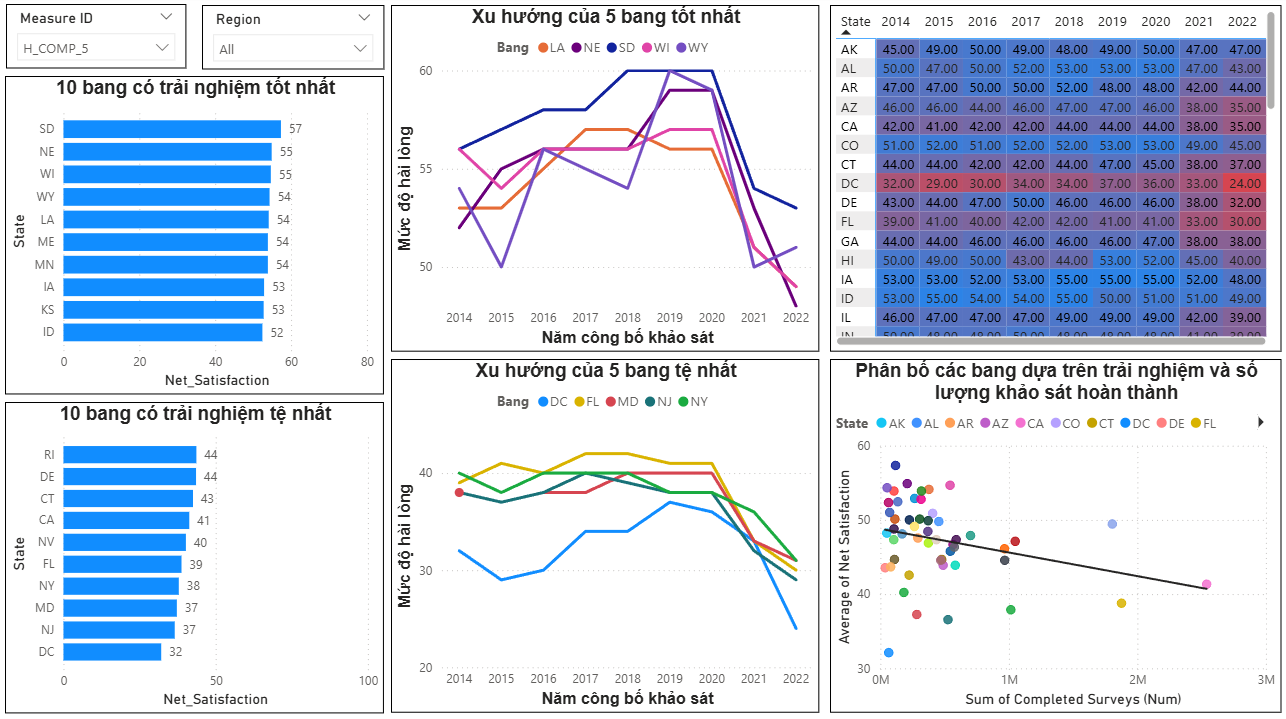

This screenshot's page, from the dashboard's own definition file:
{"tool":"powerbi","page":{"name":"Page 2","canvas":[1280,720],"ordinal":1},"visuals":[{"type":"barChart","title":"10 bang có trải nghiệm tệ nhất","fields":{"Category":["states.State"],"Y":["state_results.Net_Satisfaction"]},"box":[6.9,402.9,376.1,308.6],"z":0},{"type":"lineChart","title":"Xu hướng của 5 bang tốt nhất","fields":{"Category":["reports.Release Year"],"Series":["states.State"],"Y":["state_results.Net_Satisfaction"]},"box":[390,8.9,424.7,344.3],"z":1000},{"type":"lineChart","title":"Xu hướng của 5 bang tệ nhất","fields":{"Category":["reports.Release Year"],"Series":["states.State"],"Y":["state_results.Net_Satisfaction"]},"box":[390,360.2,424.7,351.3],"z":2000},{"type":"pivotTable","fields":{"Columns":["reports.Release Year"],"Values":["state_results.Net_Satisfaction"],"Rows":["states.State"]},"box":[825.6,8.9,447.5,344.3],"z":3000},{"type":"slicer","fields":{"Values":["measures_table.Measure ID"]},"box":[8,8,179,64],"z":4000},{"type":"barChart","title":"10 bang có trải nghiệm tốt nhất","fields":{"Category":["states.State"],"Y":["state_results.Net_Satisfaction"]},"box":[6.9,79.4,376.1,315.5],"z":5000},{"type":"scatterChart","title":"Phân bố các bang dựa trên trải nghiệm và số lượng khảo sát hoàn thành","fields":{"Y":["Avg(state_results.Net Satisfaction)"],"X":["Sum(responses.Completed Surveys (Num))"],"Series":["states.State"]},"box":[825.6,360.2,447.5,351.3],"z":6000},{"type":"slicer","fields":{"Values":["states.Region"]},"box":[202,9,181,64],"z":7000}]}

Visuals, with their boxes in screenshot pixels (x1, y1, x2, y2), scaled from the page's 1280x720 canvas onto the 1286x719 screenshot:
"10 bang có trải nghiệm tệ nhất" barChart: Rect(7, 402, 385, 711)
"Xu hướng của 5 bang tốt nhất" lineChart: Rect(392, 9, 819, 353)
"Xu hướng của 5 bang tệ nhất" lineChart: Rect(392, 360, 819, 711)
pivotTable - reports.Release Year x state_results.Net_Satisfaction: Rect(829, 9, 1279, 353)
slicer - measures_table.Measure ID: Rect(8, 8, 188, 72)
"10 bang có trải nghiệm tốt nhất" barChart: Rect(7, 79, 385, 394)
"Phân bố các bang dựa trên trải nghiệm và số lượng khảo sát hoàn thành" scatterChart: Rect(829, 360, 1279, 711)
slicer - states.Region: Rect(203, 9, 385, 73)
